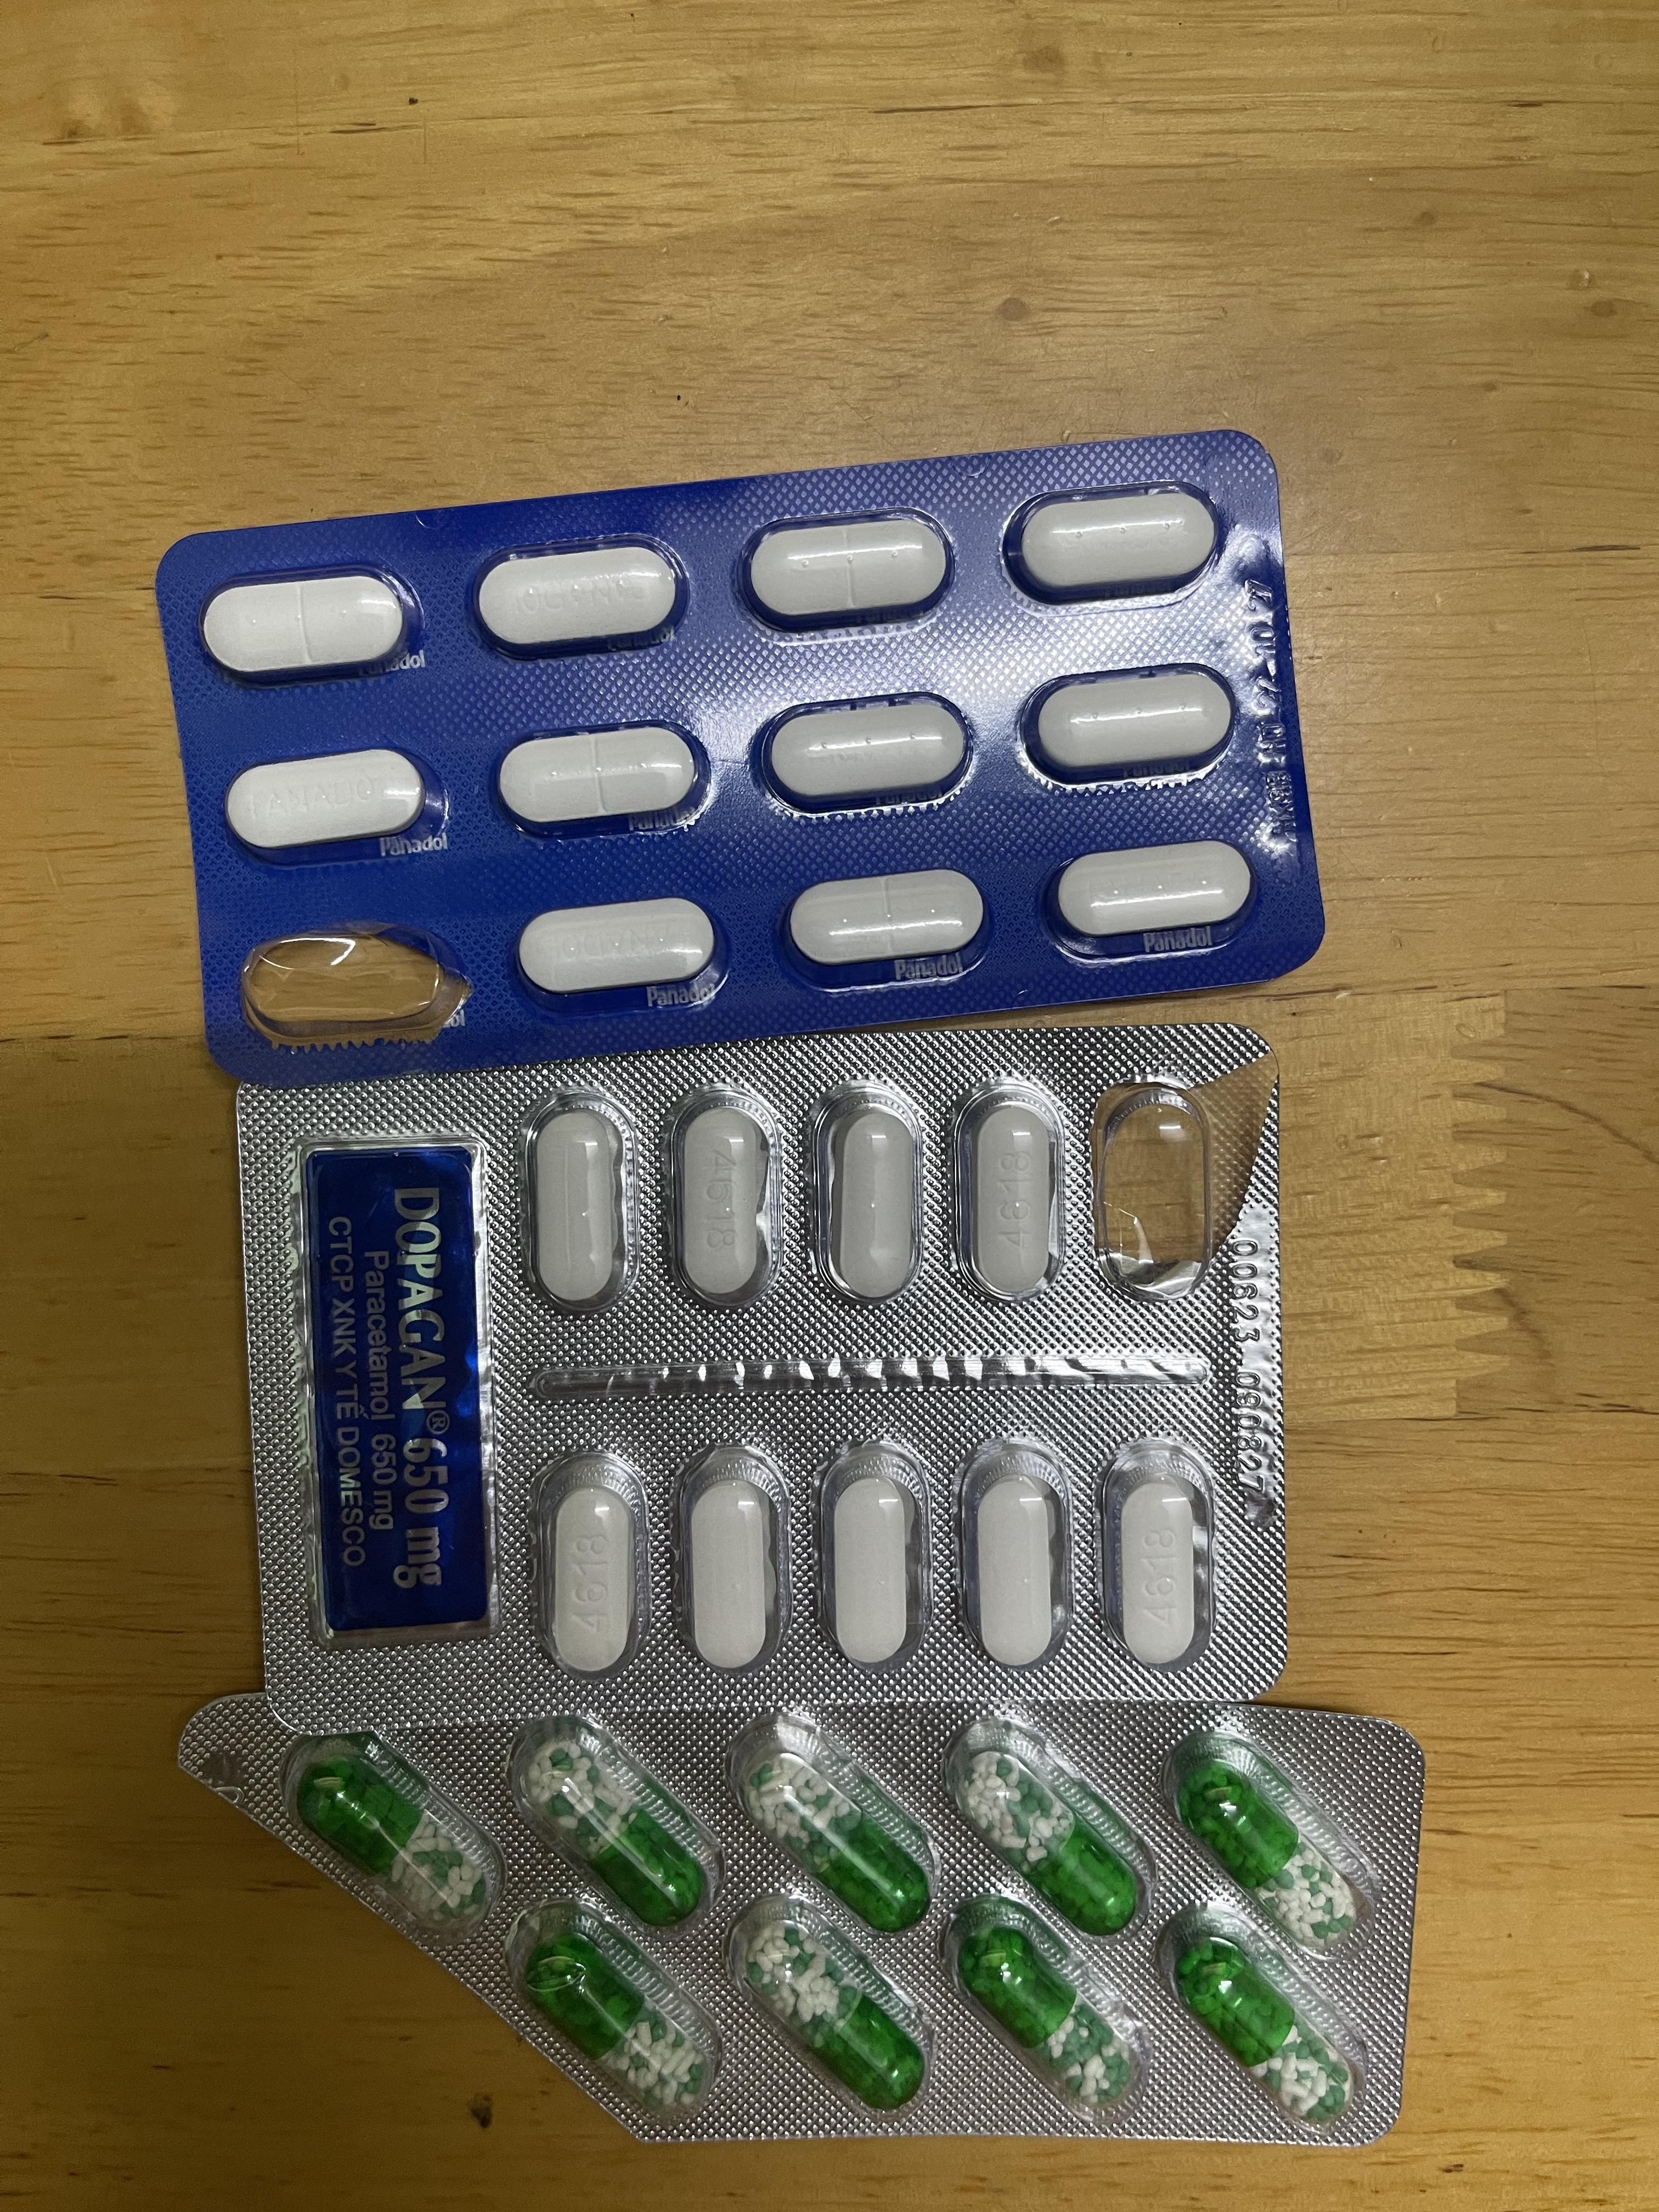Paracetamol_350mg: (1006, 482, 1227, 608), (758, 695, 976, 813), (225, 747, 439, 859), (476, 540, 680, 653), (1030, 667, 1234, 773), (749, 516, 951, 622), (204, 571, 406, 678), (500, 725, 701, 827), (518, 897, 721, 996), (1053, 840, 1255, 939), (788, 869, 990, 967)
Paracetamol_500mg: (1098, 1444, 1218, 1669), (958, 1444, 1070, 1670), (953, 1082, 1068, 1299), (814, 1087, 925, 1303), (823, 1447, 925, 1672), (523, 1101, 633, 1310), (666, 1097, 777, 1303), (685, 1458, 782, 1674), (544, 1465, 641, 1674)
Paracetamol_650mg: (955, 1728, 1143, 1933), (742, 1728, 931, 1928), (1182, 1754, 1358, 1946), (530, 1730, 706, 1921), (1175, 1935, 1356, 2120), (744, 1918, 924, 2104), (958, 1918, 1134, 2107), (528, 1928, 709, 2107), (301, 1750, 486, 1921)
